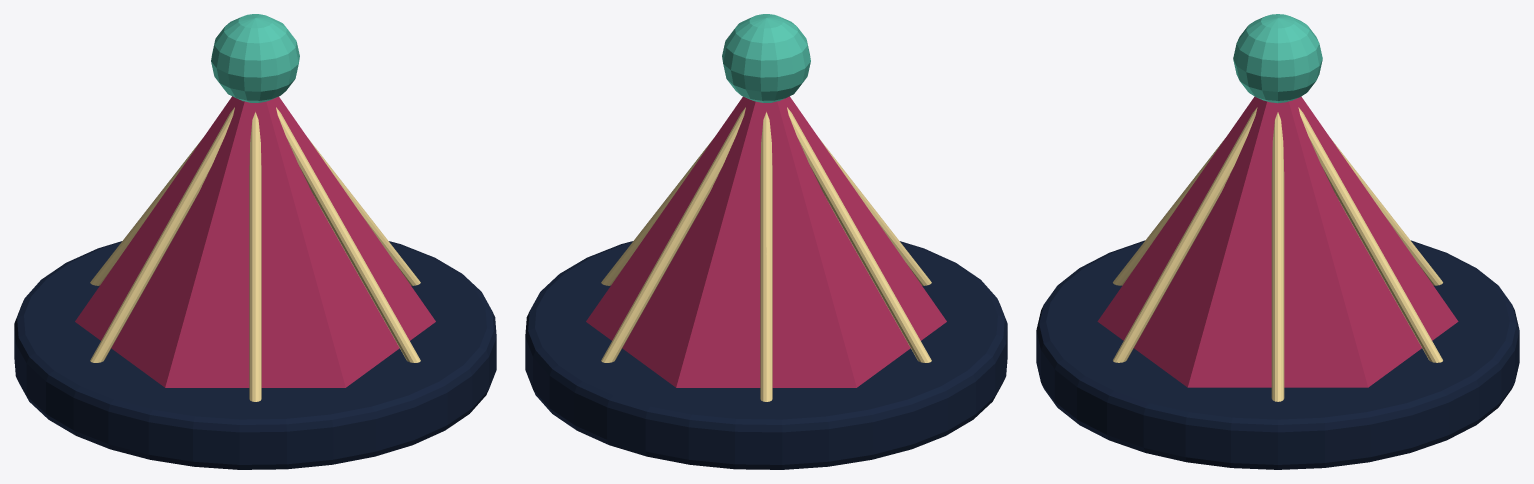
The model's file is hat_party.fbx.
3 views of the same model, side by side, from view 1: azimuth 30°, elevation 25°; view 2: azimuth 150°, elevation 25°; view 3: azimuth 270°, elevation 25° (orthographic).
Visible parts, largest first — view 1: hat_party.Mesh; view 2: hat_party.Mesh; view 3: hat_party.Mesh.
Part boxes in pixels (x1,y1,x2,y2): hat_party.Mesh: [14, 14, 496, 469]; hat_party.Mesh: [525, 14, 1007, 469]; hat_party.Mesh: [1036, 14, 1519, 469].
Bounding box in the file's own units: 70 × 56.5 × 70.
